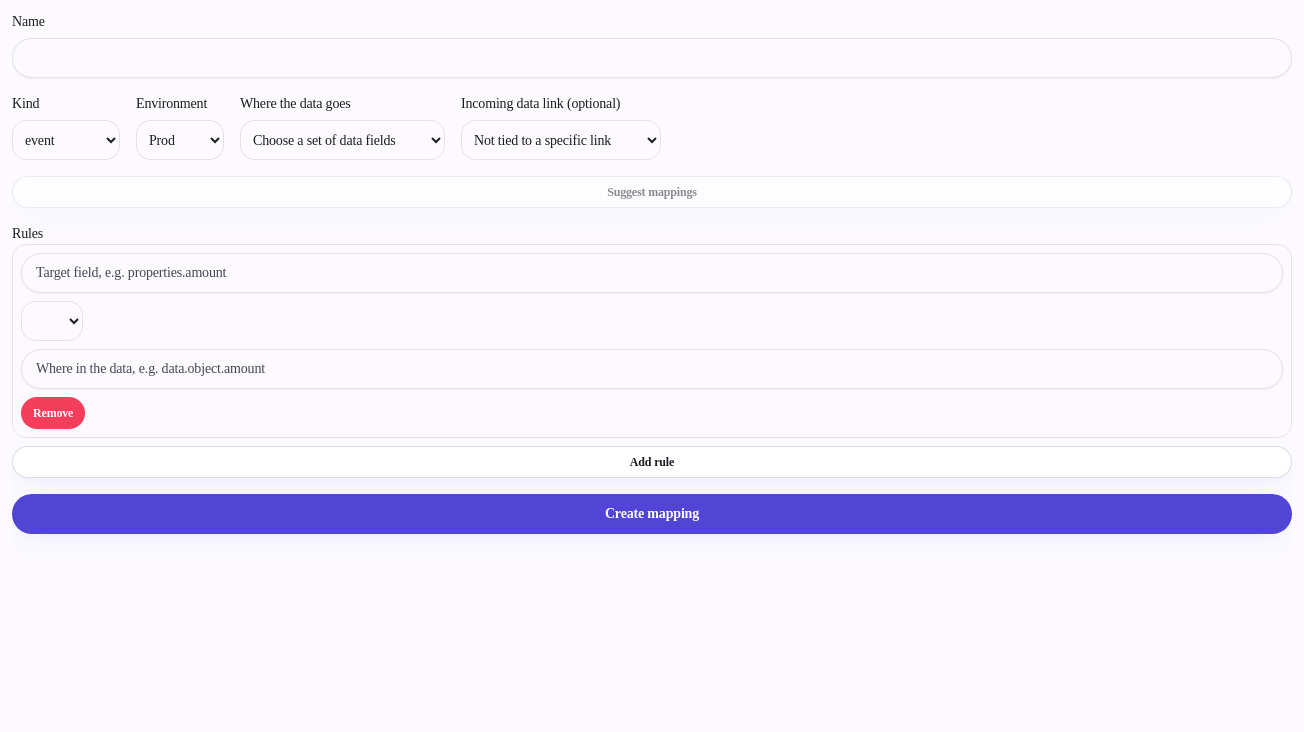
Test: CreateFieldMappingForm › surfaces the server's specific validation reasons for an invalid rule set, instead of a generic error
The image size is (1304, 732).
Type "X" into the field labelled "Name".
click(652, 58); type("X")  # box [12,38,1292,78]
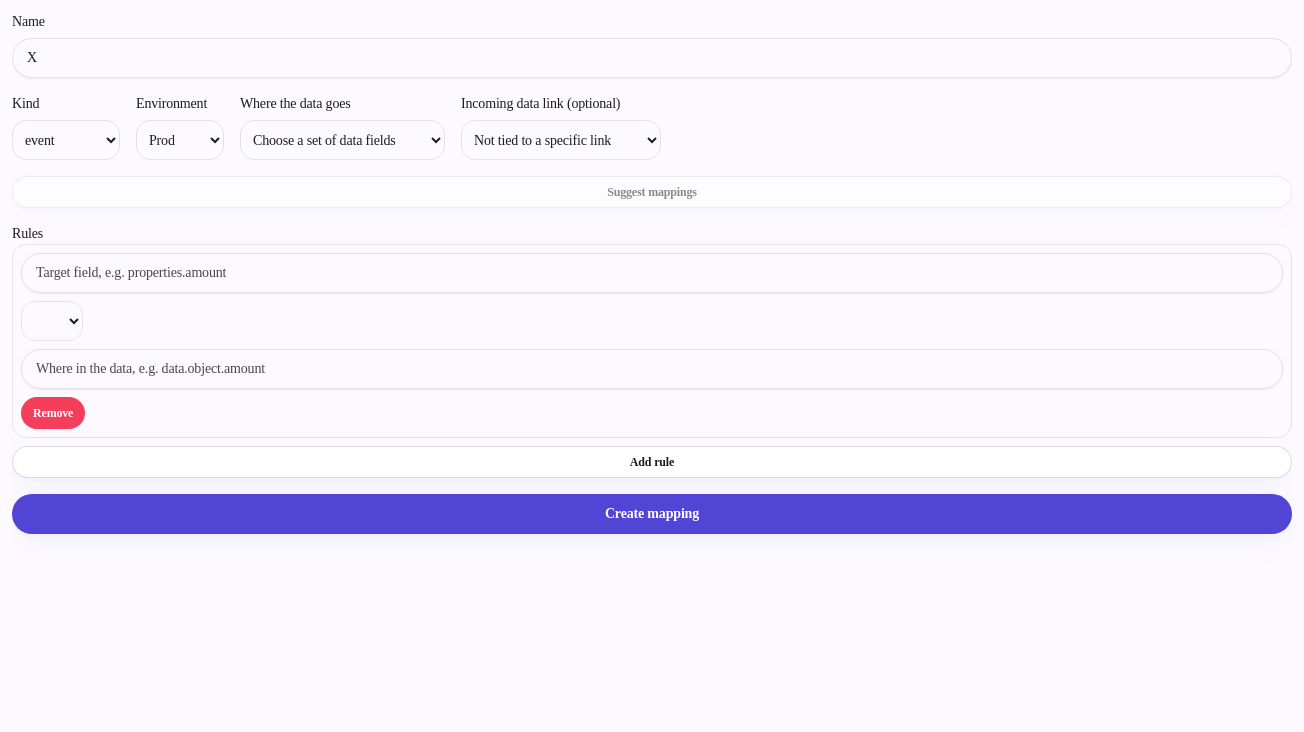
Select "order_completed" in the dropdown labelled "Where the data goes" at (342, 140), box [240,120,445,160]
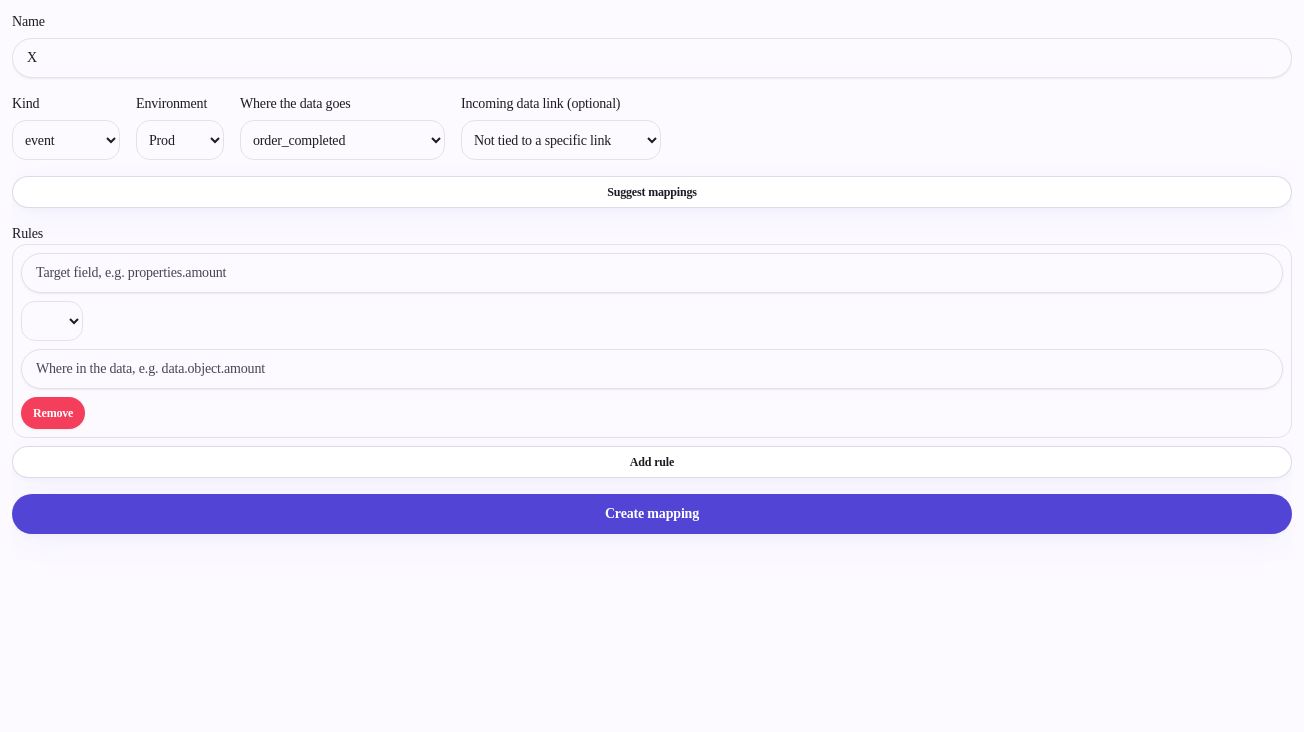
Click the button "Create mapping".
click(652, 514)  # box [12,494,1292,534]
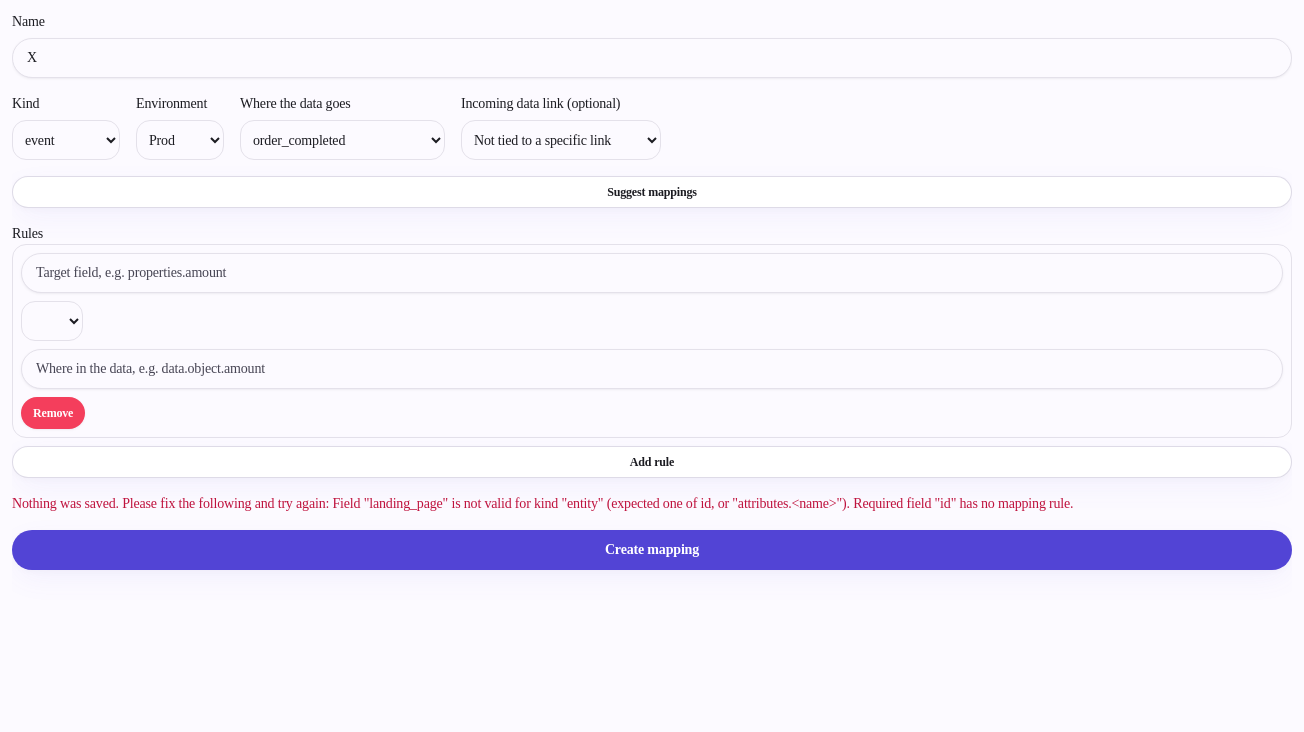
Check: the message shows "Nothing was saved. Please fix the following and try again: Field \"landing_page\" is not valid for kind \"entity\" (expected one of id, or \"attributes.<name>\"). Req", box [12,496,1073,511]
